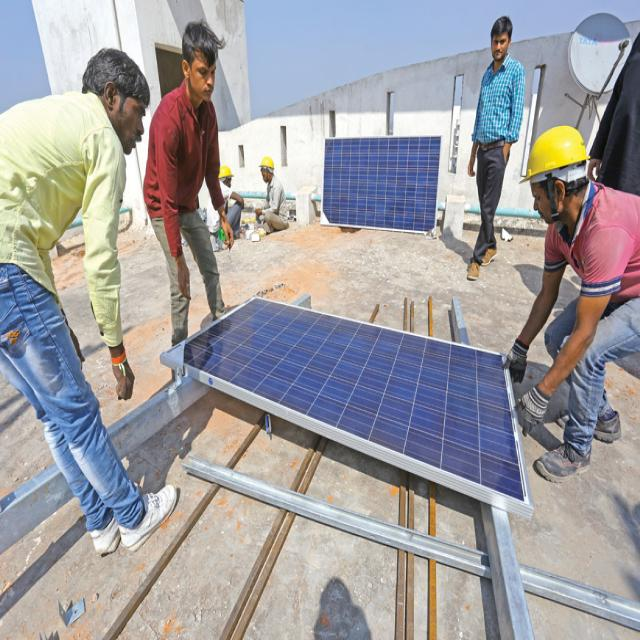clean-solar-panel: (161, 298, 532, 517), (322, 137, 441, 232)
